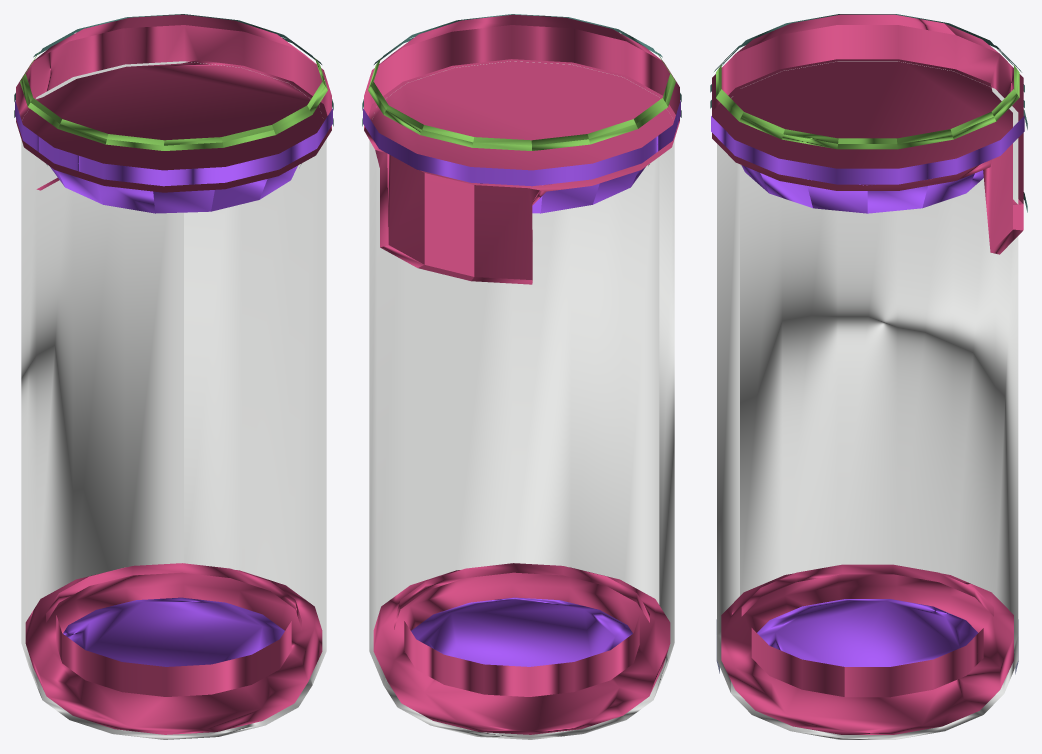
The model's file is display-case_plant_1_a.glb.
3 views of the same model, side by side, from view 1: azimuth 30°, elevation 25°; view 2: azimuth 150°, elevation 25°; view 3: azimuth 270°, elevation 25° (orthographic).
Size of the model in its own units: 0.2972 by 0.65 by 0.2996.
